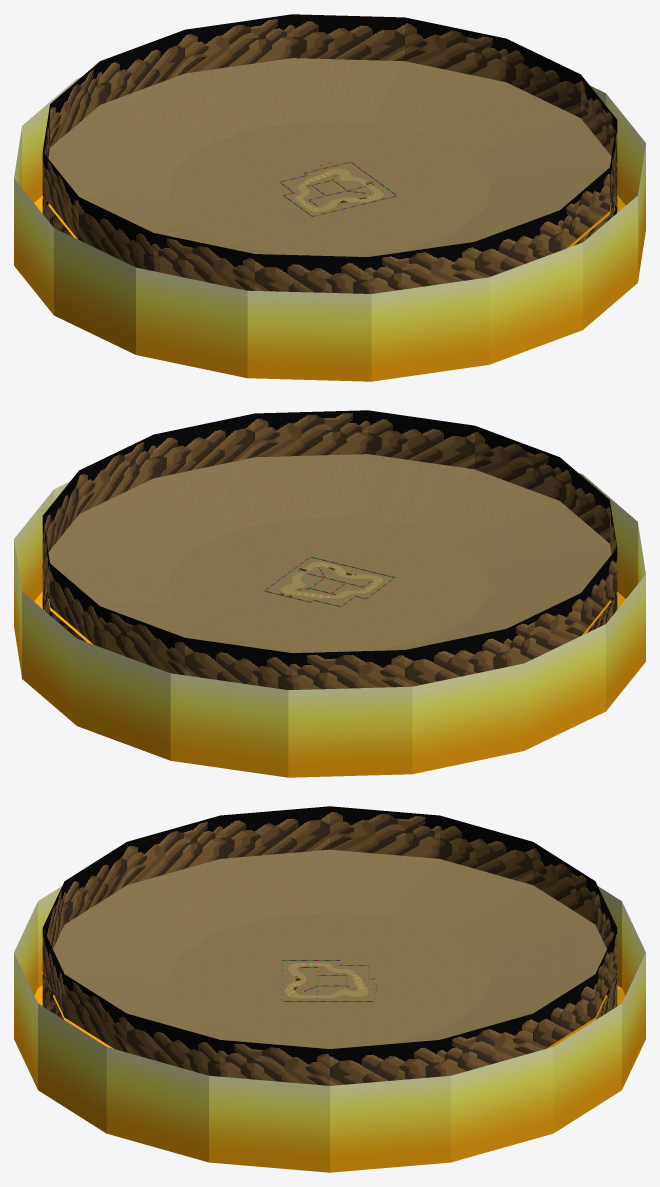
3 views of the same model, one above another, from view 1: azimuth 30°, elevation 25°; view 2: azimuth 150°, elevation 25°; view 3: azimuth 270°, elevation 25° (orthographic).
Visible parts, largest first — view 1: Polygon.024, Polygon.021, Polygon.025, Polygon.019, Polygon.023, Polygon.029; view 2: Polygon.024, Polygon.021, Polygon.025, Polygon.019, Polygon.023, Polygon.029; view 3: Polygon.024, Polygon.021, Polygon.025, Polygon.019, Polygon.023.
Part boxes in pixels (<box>): Polygon.024: <box>48,58,611,256</box>; Polygon.021: <box>14,77,645,381</box>; Polygon.025: <box>42,14,617,293</box>; Polygon.019: <box>295,168,383,211</box>; Polygon.023: <box>42,166,617,245</box>; Polygon.029: <box>279,161,397,216</box>; Polygon.024: <box>48,454,611,652</box>; Polygon.021: <box>14,473,645,777</box>; Polygon.025: <box>42,410,617,689</box>; Polygon.019: <box>281,562,383,598</box>; Polygon.023: <box>42,562,617,641</box>; Polygon.029: <box>264,557,395,606</box>; Polygon.024: <box>53,849,606,1048</box>; Polygon.021: <box>14,886,645,1172</box>; Polygon.025: <box>42,806,617,1085</box>; Polygon.019: <box>285,963,368,998</box>; Polygon.023: <box>42,973,617,1019</box>.
Bounding box in the file's own units: 264264 × 111506 × 264264.
Materials: 15 (15 with a texture image).
